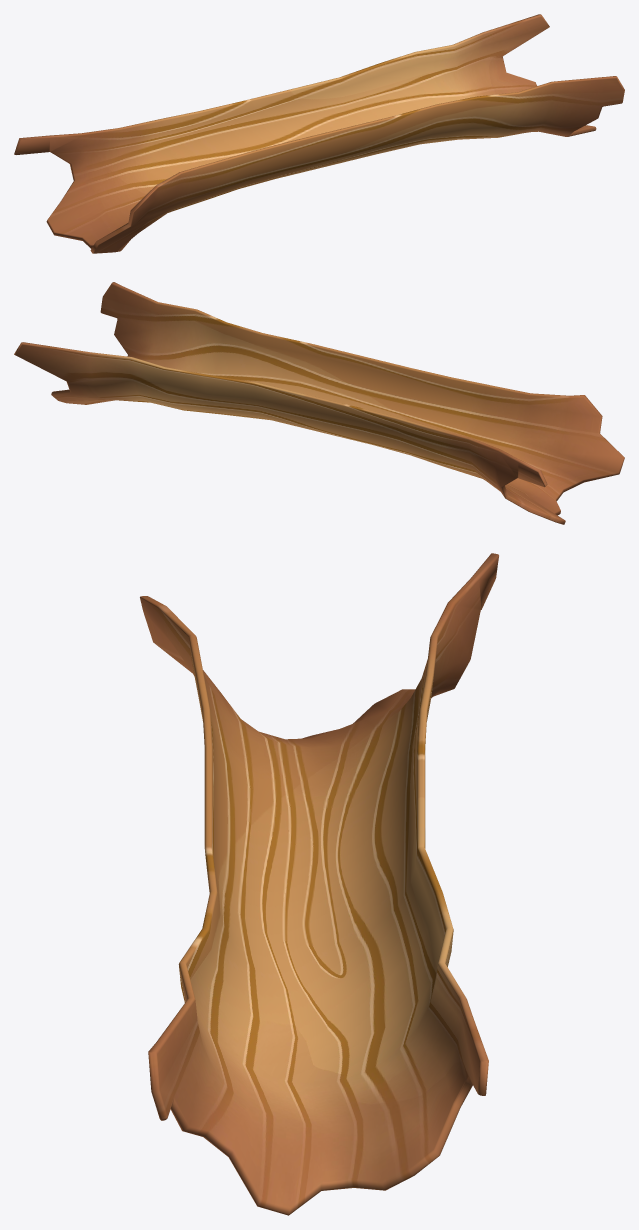
Rendered from halfLog.fbx.
The picture shows the model from 3 angles, top to bottom: view 1: azimuth 30°, elevation 25°; view 2: azimuth 150°, elevation 25°; view 3: azimuth 270°, elevation 25°; orthographic projection. The views are drawn at different scales.
Parts seen in each view (by area): view 1: Cylinder; view 2: Cylinder; view 3: Cylinder.
Part boxes in pixels (x1=…): Cylinder: x1=14, y1=14, x2=624, y2=253; Cylinder: x1=14, y1=282, x2=624, y2=524; Cylinder: x1=140, y1=553, x2=498, y2=1215.
Size of the model in its own units: 227 by 34.1 by 66.27.
